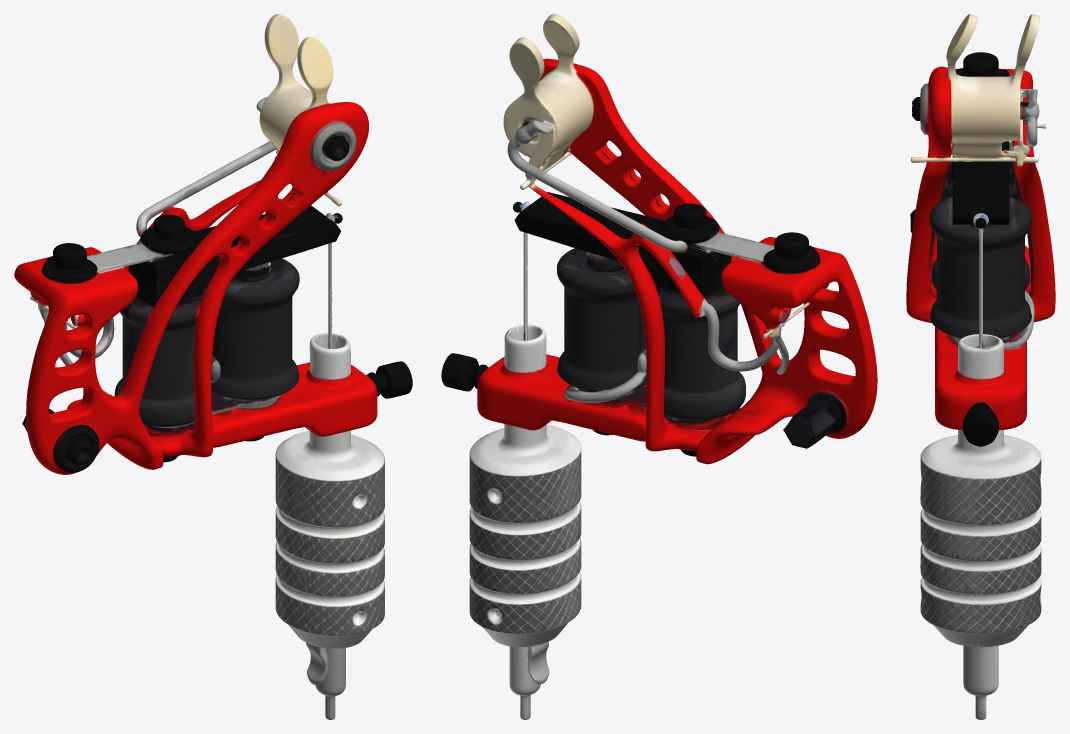
File: tattoo-machine.glb
3 renders of one model, left to right at view 1: azimuth 30°, elevation 25°; view 2: azimuth 150°, elevation 25°; view 3: azimuth 270°, elevation 25°, orthographic. The views are drawn at different scales.
Parts seen in each view (by area): view 1: Object_5, Object_7, Object_6; view 2: Object_6, Object_5, Object_7; view 3: Object_6, Object_5, Object_7.
Part boxes in pixels (left/top/right/bottom): Object_5: left=17, top=70, right=384, bottom=647; Object_7: left=26, top=37, right=412, bottom=696; Object_6: left=14, top=14, right=412, bottom=719; Object_6: left=442, top=37, right=839, bottom=719; Object_5: left=441, top=54, right=876, bottom=658; Object_7: left=470, top=14, right=877, bottom=634; Object_6: left=920, top=14, right=1055, bottom=719; Object_5: left=906, top=52, right=1034, bottom=646; Object_7: left=921, top=14, right=987, bottom=693.
Bounding box in the file's own units: 1.14 × 1.9 × 0.3713.
1 material, 1 textured.
